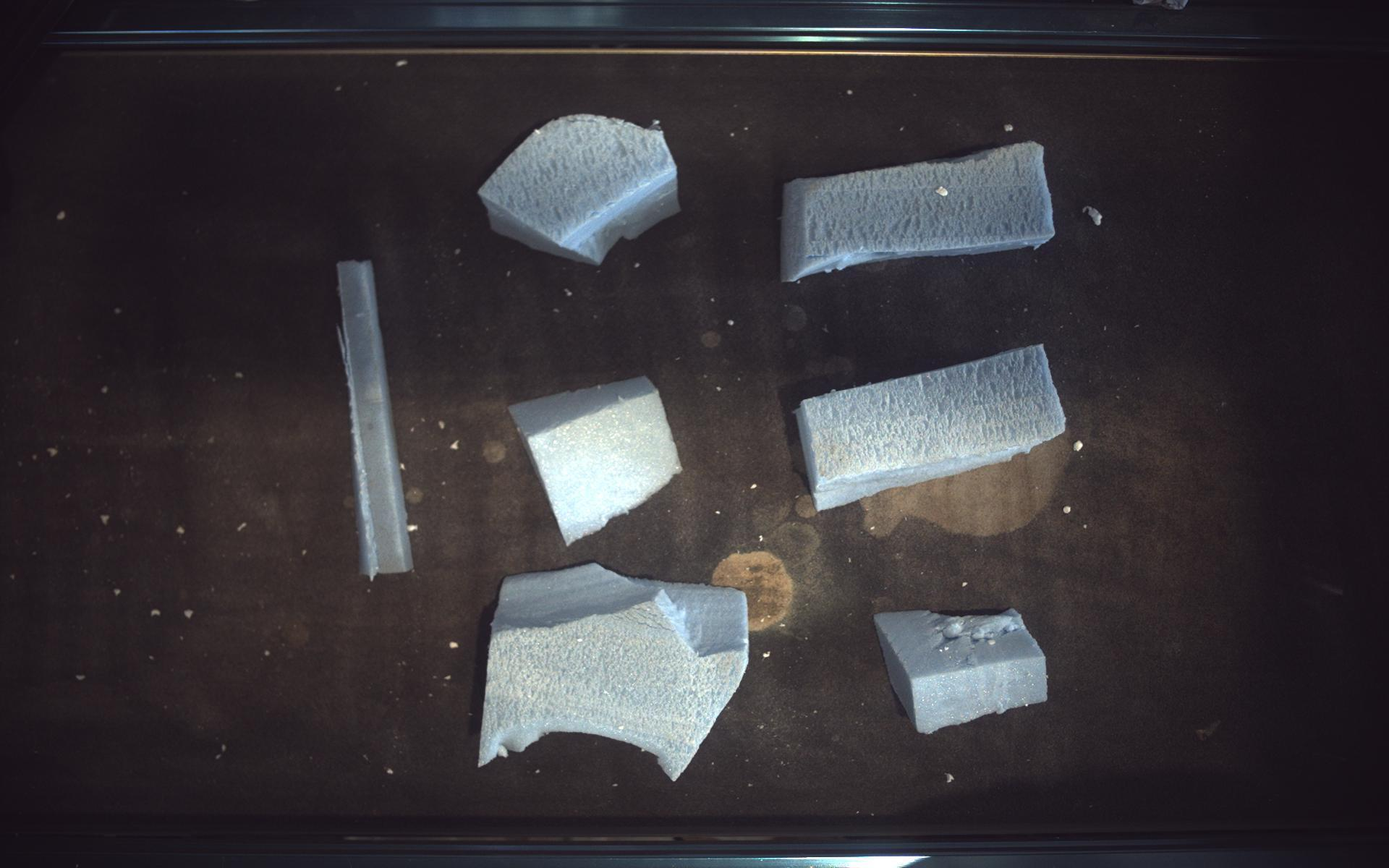foam: (480, 563, 749, 781), (797, 344, 1068, 511), (782, 140, 1057, 281), (478, 113, 680, 264), (509, 377, 682, 545), (337, 260, 412, 580), (877, 610, 1049, 735)
